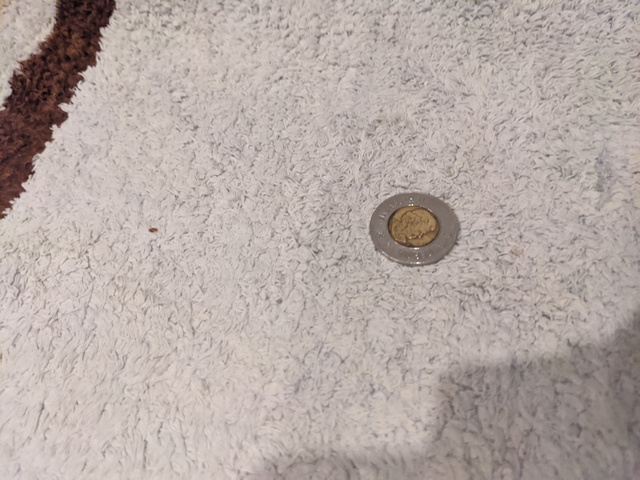twonie: (370, 186, 464, 271)
